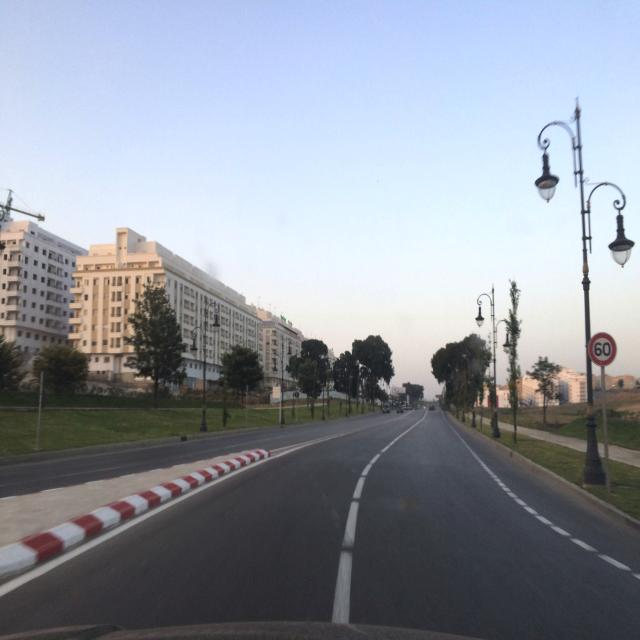car: (381, 403, 391, 414), (396, 403, 405, 414)
